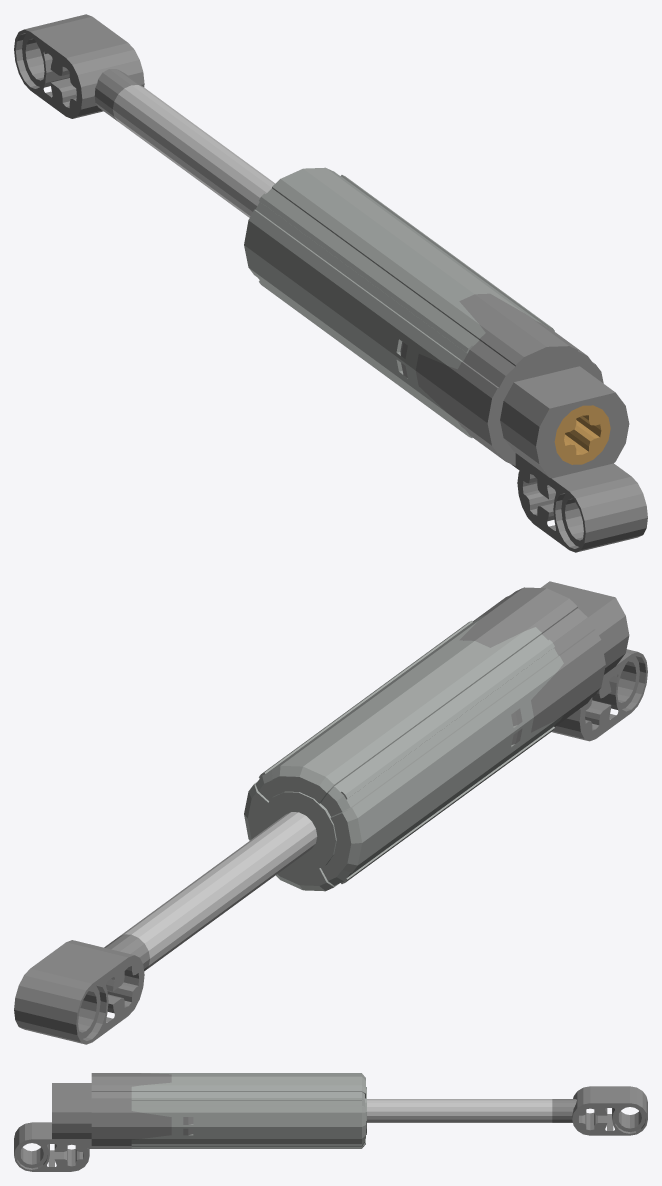
3 renders of one model, top to bottom at view 1: azimuth 30°, elevation 25°; view 2: azimuth 150°, elevation 25°; view 3: azimuth 270°, elevation 25°, orthographic. The views are drawn at different scales.
Parts seen in each view (by area): view 1: world; view 2: world; view 3: world.
Boxes of the visible parts, bbox=[...] form: world: bbox=[14, 14, 647, 552]; world: bbox=[14, 581, 647, 1044]; world: bbox=[14, 1073, 647, 1171].
Size of the model in its own units: 0.0152 by 0.0192 by 0.1272.
